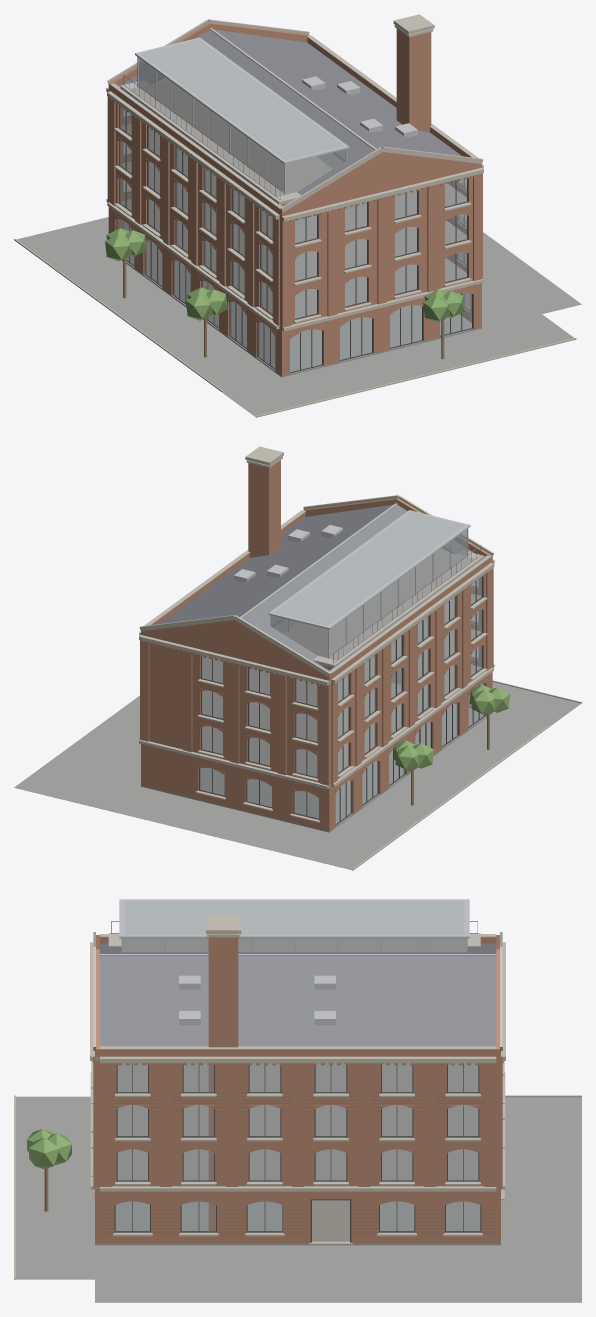
The model's file is clay-arched-mill-mixed-use-clay-v002.glb.
3 views of the same model, one above another, from view 1: azimuth 30°, elevation 25°; view 2: azimuth 150°, elevation 25°; view 3: azimuth 270°, elevation 25° (orthographic). The views are drawn at different scales.
Parts seen in each view (by area): view 1: CLAY_WALL, CLAY_FOUNDATION, CLAY_GLASS, CLAY_FLOOR, CLAY_STONE, CLAY_METAL, CLAY_ROOF, CLAY_TRIM, CLAY_PLANTING, CLAY_CONCRETE, CLAY_HARDWARE; view 2: CLAY_WALL, CLAY_FOUNDATION, CLAY_GLASS, CLAY_FLOOR, CLAY_STONE, CLAY_METAL, CLAY_ROOF, CLAY_TRIM, CLAY_PLANTING, CLAY_CONCRETE, CLAY_HARDWARE; view 3: CLAY_FOUNDATION, CLAY_WALL, CLAY_GLASS, CLAY_ROOF, CLAY_FLOOR, CLAY_METAL, CLAY_STONE, CLAY_TRIM, CLAY_JOINT, CLAY_PALE, CLAY_PLANTING.
Part boxes in pixels (x1,y1,x2,y2): CLAY_WALL: [107, 22, 482, 375]; CLAY_FOUNDATION: [15, 215, 581, 417]; CLAY_GLASS: [117, 40, 471, 371]; CLAY_FLOOR: [121, 79, 466, 318]; CLAY_STONE: [14, 14, 576, 417]; CLAY_METAL: [135, 28, 417, 195]; CLAY_ROOF: [119, 29, 461, 195]; CLAY_TRIM: [116, 105, 473, 373]; CLAY_PLANTING: [105, 228, 464, 322]; CLAY_CONCRETE: [120, 78, 333, 204]; CLAY_HARDWARE: [123, 75, 280, 199]; CLAY_WALL: [140, 460, 493, 831]; CLAY_FOUNDATION: [14, 682, 580, 870]; CLAY_GLASS: [200, 512, 484, 823]; CLAY_FLOOR: [202, 550, 480, 776]; CLAY_STONE: [139, 446, 581, 870]; CLAY_METAL: [233, 503, 470, 658]; CLAY_ROOF: [160, 504, 474, 671]; CLAY_TRIM: [199, 576, 485, 825]; CLAY_PLANTING: [393, 684, 510, 770]; CLAY_CONCRETE: [283, 548, 484, 667]; CLAY_HARDWARE: [333, 545, 481, 663]; CLAY_FOUNDATION: [15, 1096, 581, 1302]; CLAY_WALL: [92, 934, 503, 1243]; CLAY_GLASS: [115, 901, 480, 1230]; CLAY_ROOF: [99, 943, 496, 1046]; CLAY_FLOOR: [117, 939, 478, 1180]; CLAY_METAL: [99, 899, 496, 1025]; CLAY_STONE: [14, 915, 581, 1279]; CLAY_TRIM: [114, 1063, 481, 1242]; CLAY_JOINT: [100, 1092, 495, 1232]; CLAY_PALE: [312, 1200, 349, 1241]; CLAY_PLANTING: [27, 1129, 71, 1169].
Bounding box in the file's own units: 36 × 25.7 × 42.
